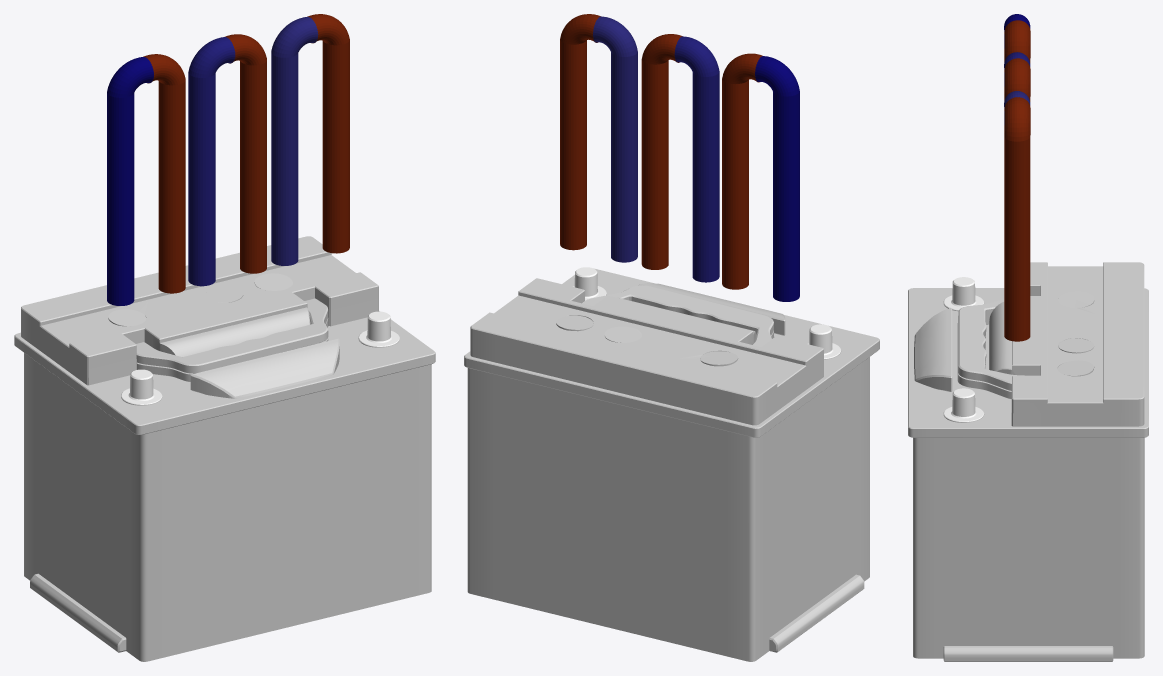
File: battery.glb
3 views of the same model, side by side, from view 1: azimuth 30°, elevation 25°; view 2: azimuth 150°, elevation 25°; view 3: azimuth 270°, elevation 25° (orthographic). The views are drawn at different scales.
Visible parts, largest first — view 1: Куб, Cylinder.003, Cylinder.004, Cylinder, Cylinder.005, Cylinder.001, Cylinder.002; view 2: Куб, Cylinder.003, Cylinder.004, Cylinder, Cylinder.002, Cylinder.001, Cylinder.005; view 3: Куб, Cylinder.005, Cylinder.002, Cylinder.001.
Boxes of the visible parts, box(x1,y1,x2,y2) form: Куб: box(14, 236, 435, 661); Cylinder.003: box(188, 37, 235, 286); Cylinder.004: box(271, 16, 318, 265); Cylinder: box(107, 57, 153, 305); Cylinder.005: box(307, 14, 349, 253); Cylinder.001: box(143, 54, 185, 293); Cylinder.002: box(225, 34, 266, 273); Куб: box(464, 267, 879, 661); Cylinder.003: box(674, 36, 719, 282); Cylinder.004: box(593, 16, 637, 262); Cylinder: box(755, 56, 799, 301); Cylinder.002: box(641, 34, 682, 269); Cylinder.001: box(722, 53, 762, 289); Cylinder.005: box(560, 14, 600, 250); Куб: box(908, 262, 1148, 661); Cylinder.005: box(1004, 97, 1030, 341); Cylinder.002: box(1004, 58, 1030, 101); Cylinder.001: box(1004, 20, 1030, 62).
Bounding box in the file's own units: 0.2479 × 0.4247 × 0.175.
